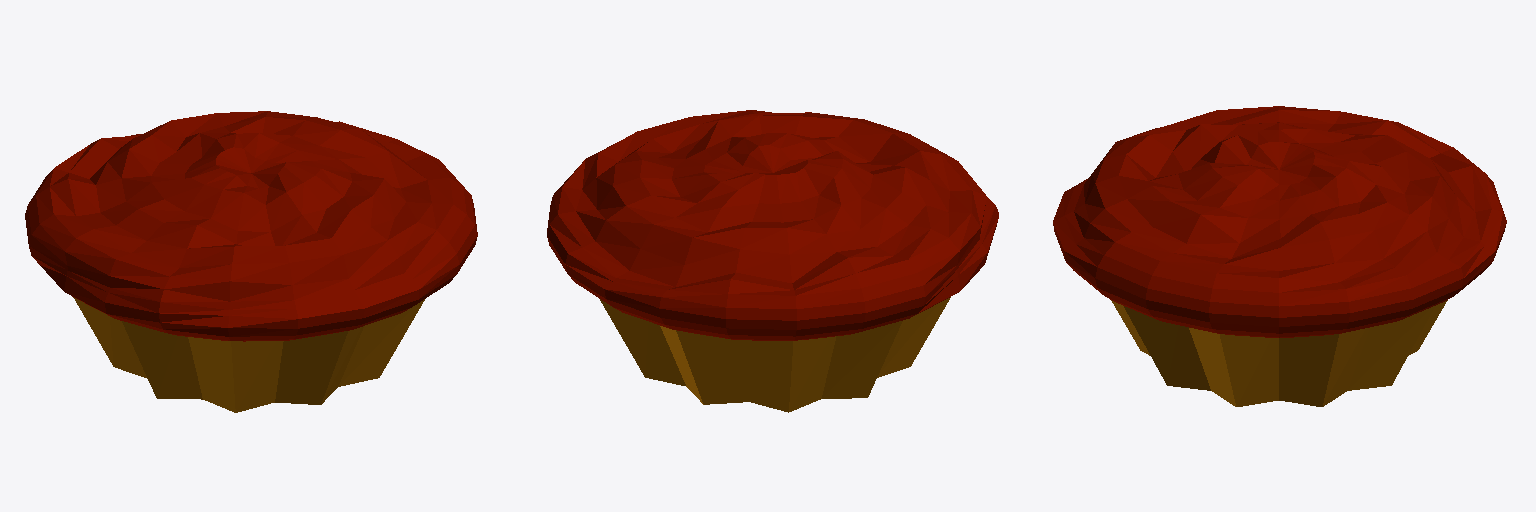
The model's file is cake.obj.
3 renders of one model, left to right at view 1: azimuth 30°, elevation 25°; view 2: azimuth 150°, elevation 25°; view 3: azimuth 270°, elevation 25°, orthographic.
Visible parts, largest first — view 1: polySurface20; view 2: polySurface20; view 3: polySurface20.
Part boxes in pixels (bbox=[...]): polySurface20: bbox=[25, 111, 477, 412]; polySurface20: bbox=[547, 110, 998, 412]; polySurface20: bbox=[1053, 106, 1506, 406].
Bounding box in the file's own units: 1.39 × 0.6711 × 1.42.